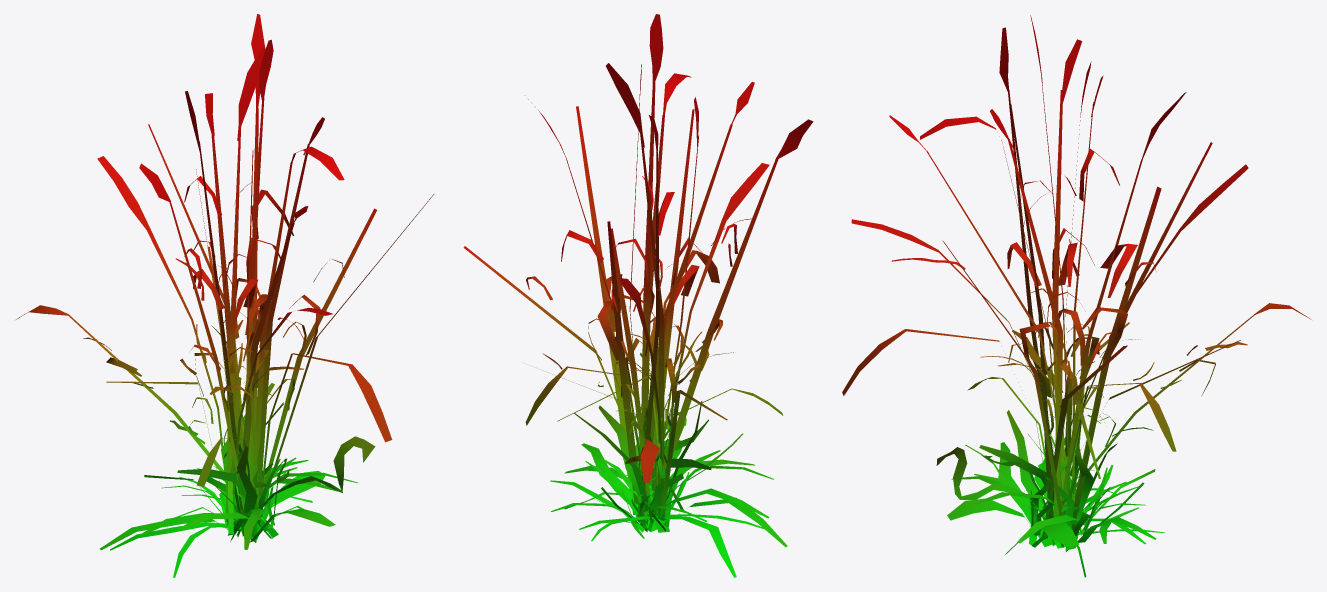
File: Wheat Grass_LOD2_Var1_tdcrdbur.fbx
The picture shows the model from 3 angles, left to right: view 1: azimuth 30°, elevation 25°; view 2: azimuth 150°, elevation 25°; view 3: azimuth 270°, elevation 25°; orthographic projection. The views are drawn at different scales.
Parts seen in each view (by area): view 1: _abc8_Var1_LOD2; view 2: _abc8_Var1_LOD2; view 3: _abc8_Var1_LOD2.
Part boxes in pixels (x1,y1,x2,y2): _abc8_Var1_LOD2: [16, 14, 433, 577]; _abc8_Var1_LOD2: [463, 14, 813, 577]; _abc8_Var1_LOD2: [842, 15, 1311, 577].
Bounding box in the file's own units: 81.71 × 132 × 104.
